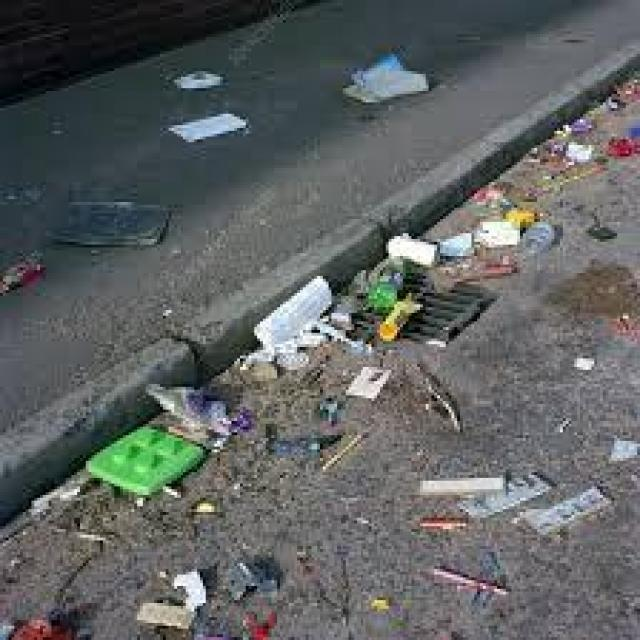curb: (358, 45, 634, 254), (172, 213, 395, 387), (4, 341, 198, 526)
